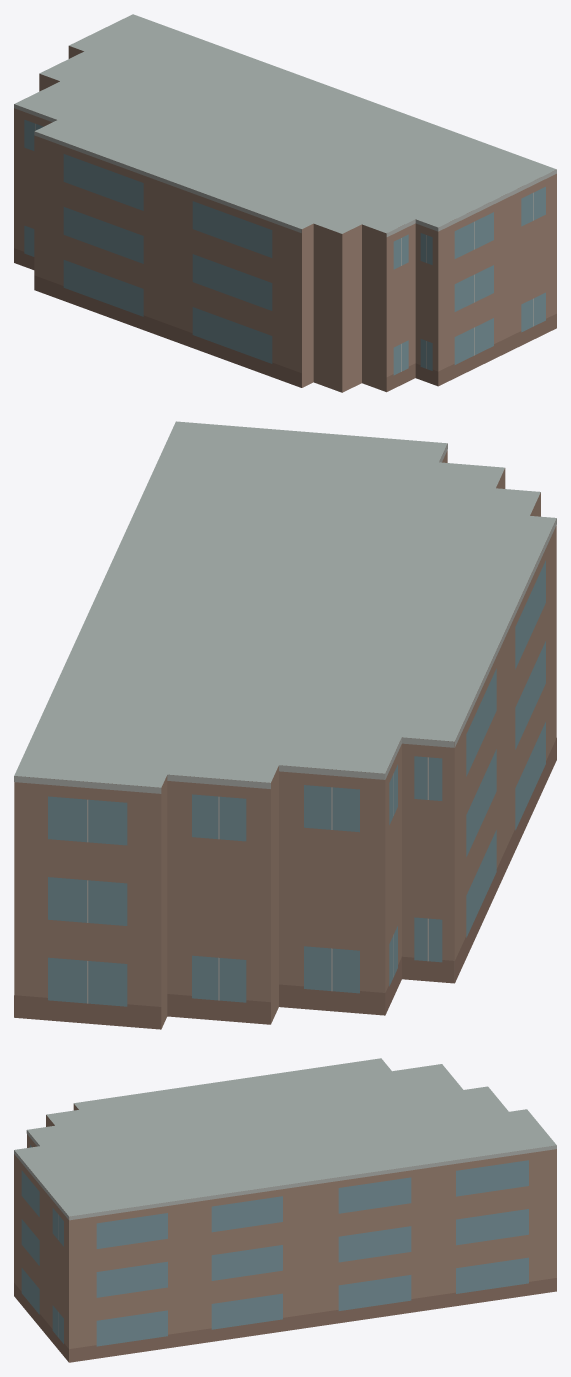
File: survey-upis-32469265.glb
3 views of the same model, one above another, from view 1: azimuth 30°, elevation 25°; view 2: azimuth 150°, elevation 25°; view 3: azimuth 270°, elevation 25° (orthographic). The views are drawn at different scales.
Visible parts, largest first — view 1: survey-upis-32469265.tmp; view 2: survey-upis-32469265.tmp; view 3: survey-upis-32469265.tmp.
Part boxes in pixels (x1,y1,x2,y2): survey-upis-32469265.tmp: [14, 14, 556, 392]; survey-upis-32469265.tmp: [14, 421, 556, 1029]; survey-upis-32469265.tmp: [14, 1058, 556, 1362].
Bounding box in the file's own units: 21.86 × 9.4 × 31.66.
